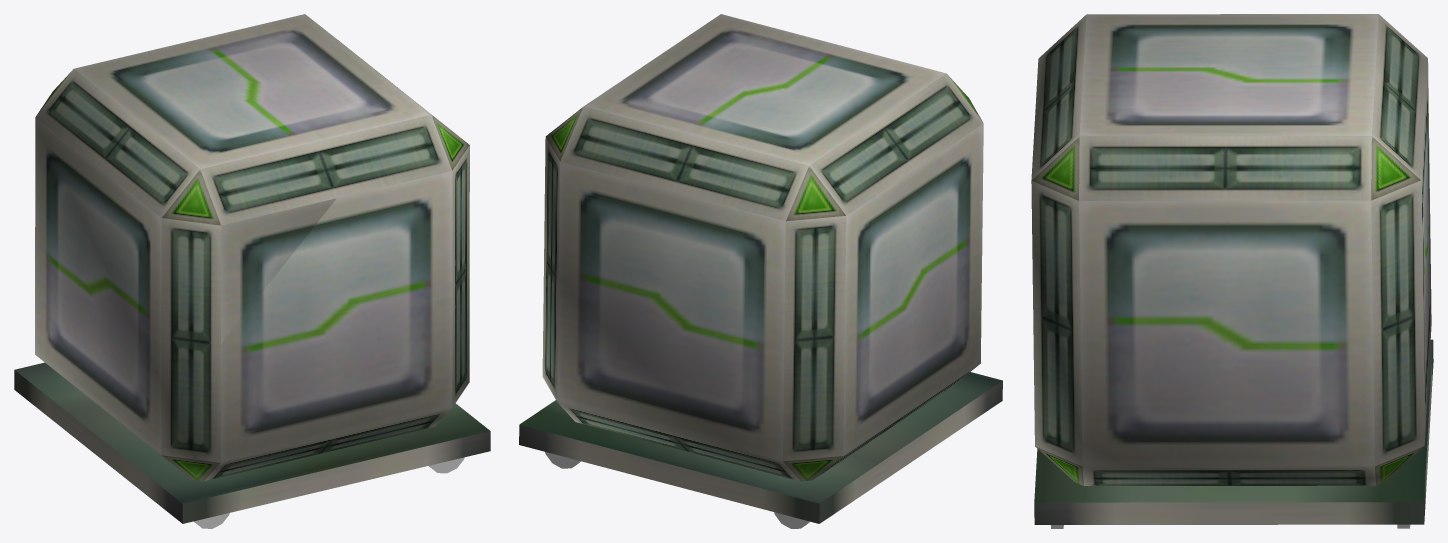
File: box_elect.fbx
3 renders of one model, left to right at view 1: azimuth 30°, elevation 25°; view 2: azimuth 150°, elevation 25°; view 3: azimuth 270°, elevation 25°, orthographic. The views are drawn at different scales.
Parts seen in each view (by area): view 1: polygon2, polygon3; view 2: polygon2, polygon3; view 3: polygon2.
Part boxes in pixels (x1,y1,x2,y2): polygon2: [14, 14, 490, 523]; polygon3: [194, 457, 464, 528]; polygon2: [519, 14, 1002, 523]; polygon3: [545, 452, 809, 528]; polygon2: [1031, 14, 1433, 524].
Bounding box in the file's own units: 5.82 × 6.31 × 5.85.
